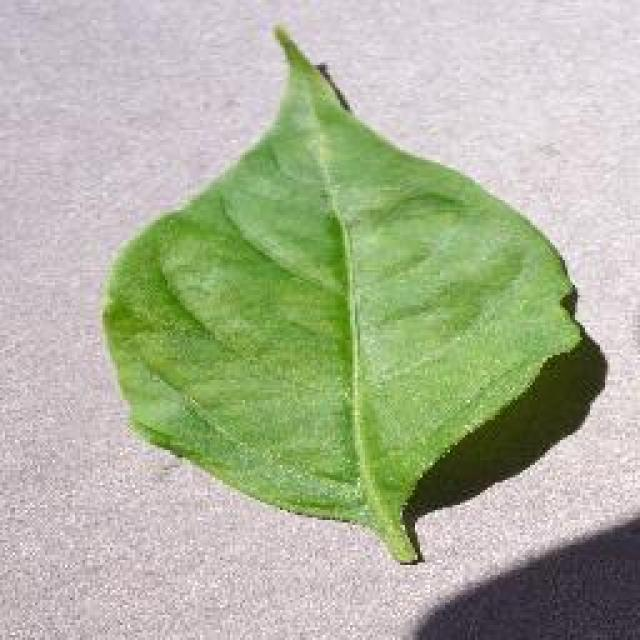Chilli_Healthy: (98, 20, 602, 565)
